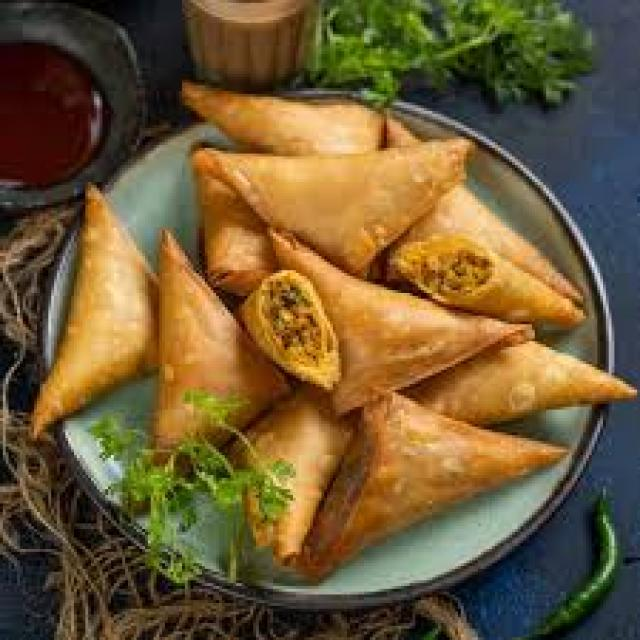SAMOSA: (290, 393, 566, 575), (282, 239, 532, 410), (199, 139, 469, 276), (31, 188, 154, 432), (154, 230, 287, 444), (410, 185, 577, 299), (410, 341, 634, 424), (384, 233, 580, 324), (230, 401, 338, 558), (185, 80, 381, 151), (239, 270, 336, 387), (196, 159, 273, 293), (381, 111, 418, 145)
